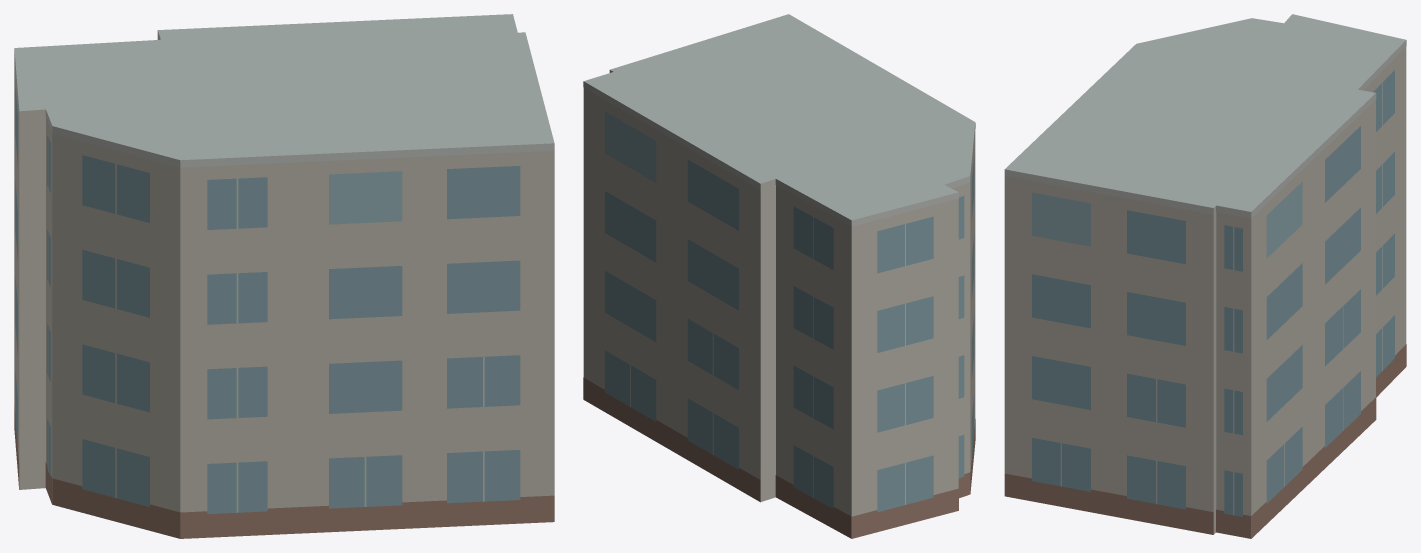
Rendered from survey-upis-32673505.glb.
3 views of the same model, side by side, from view 1: azimuth 30°, elevation 25°; view 2: azimuth 150°, elevation 25°; view 3: azimuth 270°, elevation 25° (orthographic). The views are drawn at different scales.
Visible parts, largest first — view 1: survey-upis-32673505.tmp; view 2: survey-upis-32673505.tmp; view 3: survey-upis-32673505.tmp.
Part boxes in pixels (x1,y1,x2,y2): survey-upis-32673505.tmp: [14, 14, 554, 538]; survey-upis-32673505.tmp: [583, 14, 975, 538]; survey-upis-32673505.tmp: [1004, 14, 1406, 538].
Bounding box in the file's own units: 16.11 × 12.4 × 13.82.
